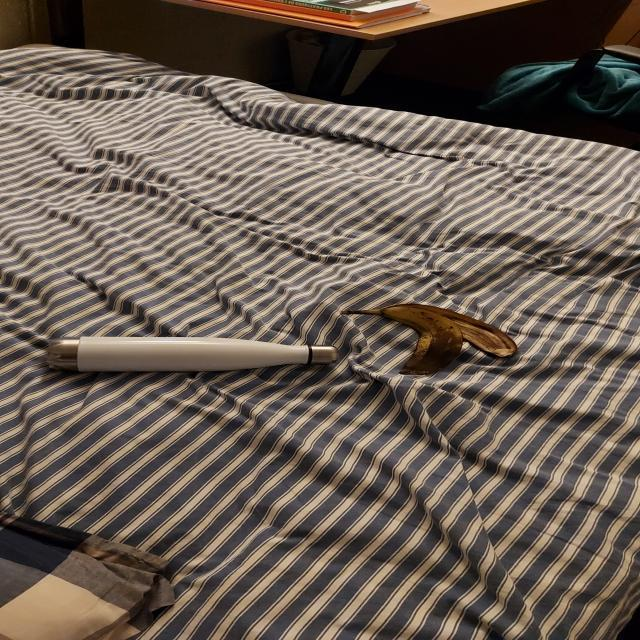banana-peel: (341, 300, 517, 376)
